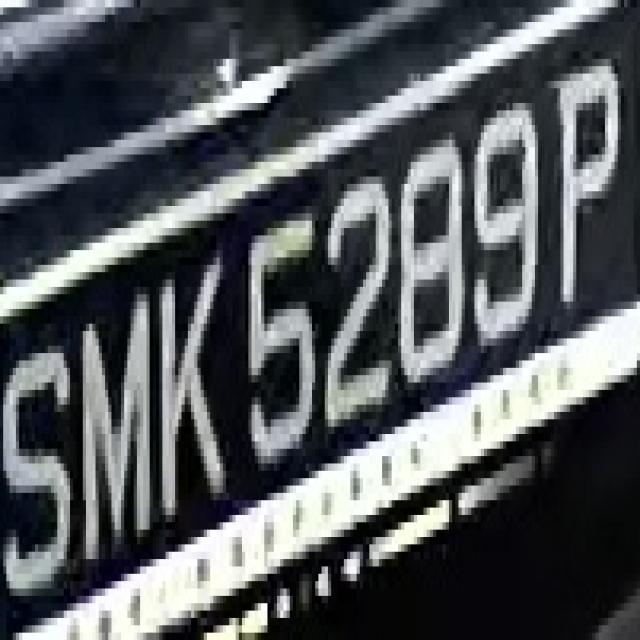2: (325, 199, 404, 434)
5: (242, 206, 318, 471)
8: (401, 140, 465, 412)
9: (458, 95, 542, 368)
K: (150, 250, 223, 508)
M: (70, 294, 159, 559)
P: (542, 44, 630, 331)
S: (6, 323, 69, 640)
